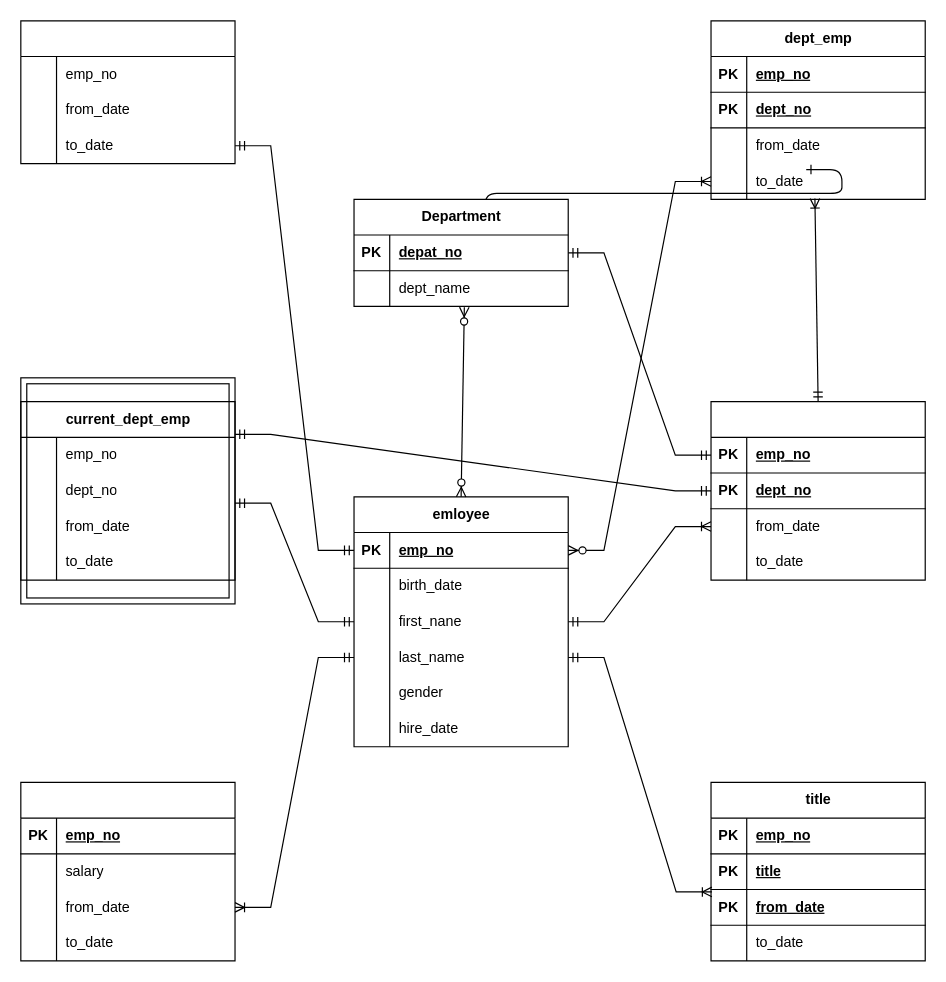
The diagram is 946 pixels wide and 982 high, and some of its shapes have lost their labels. The box of each missing label's shape, as (x1, y1, x2, y2) in pixels:
dept_emp_lastest_date: (20, 20, 235, 164)
dept_manager: (710, 400, 925, 580)
salaries: (20, 781, 235, 961)
